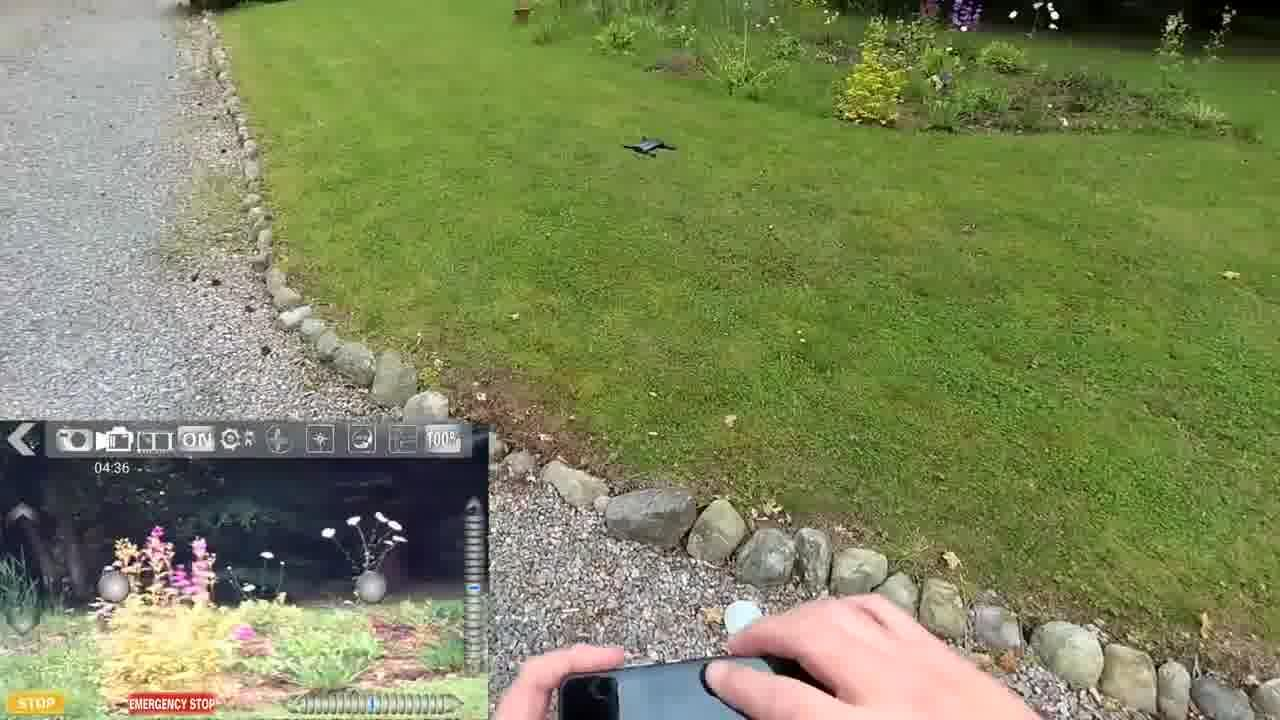drone: (619, 114, 692, 180)
